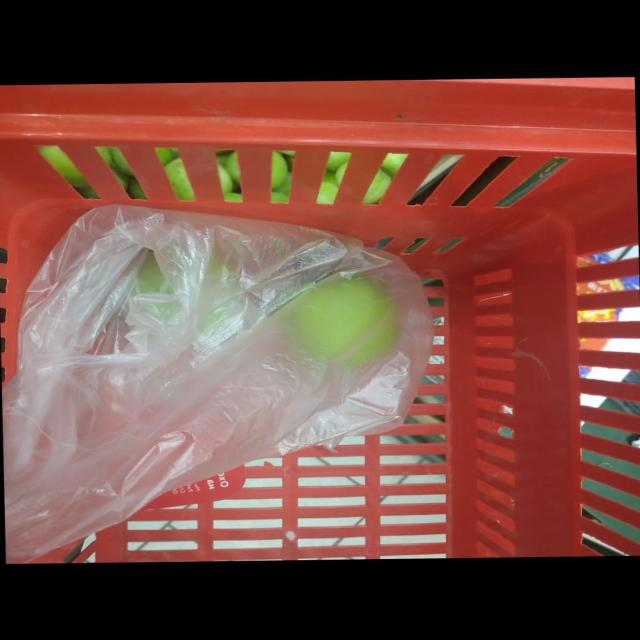apple: (139, 157, 433, 499), (72, 157, 222, 474)
